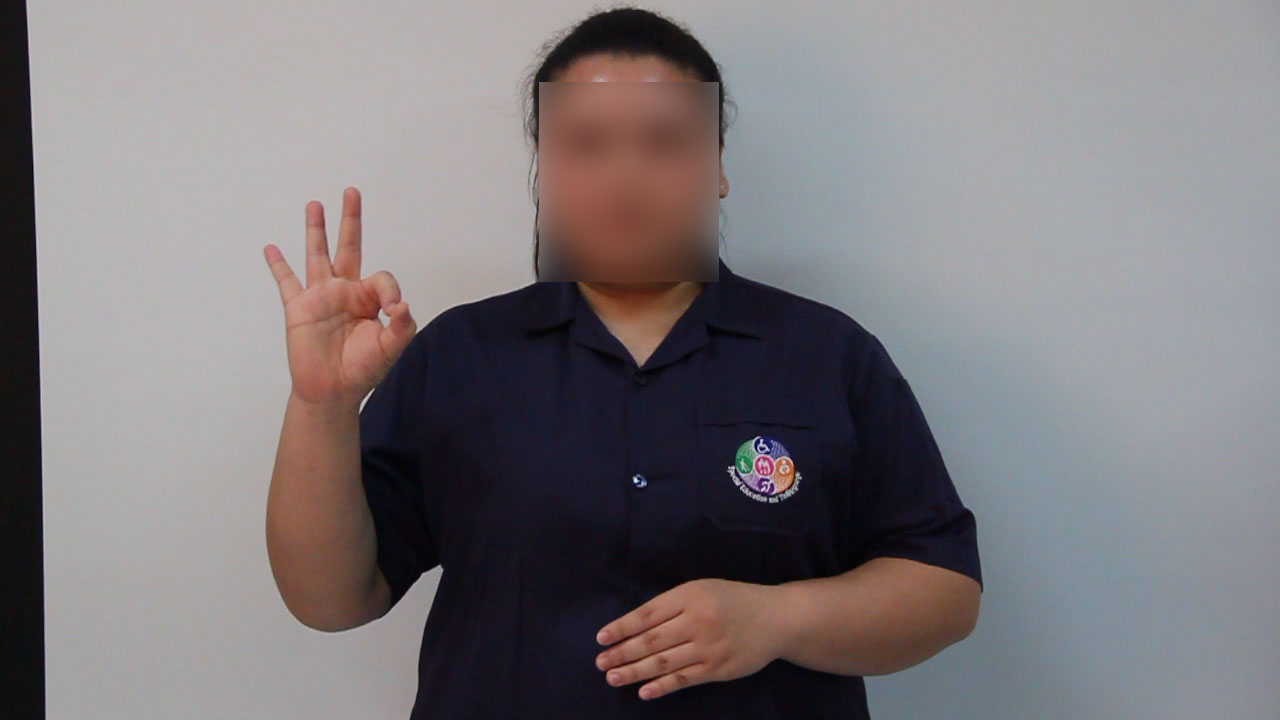for: (255, 177, 426, 424)
